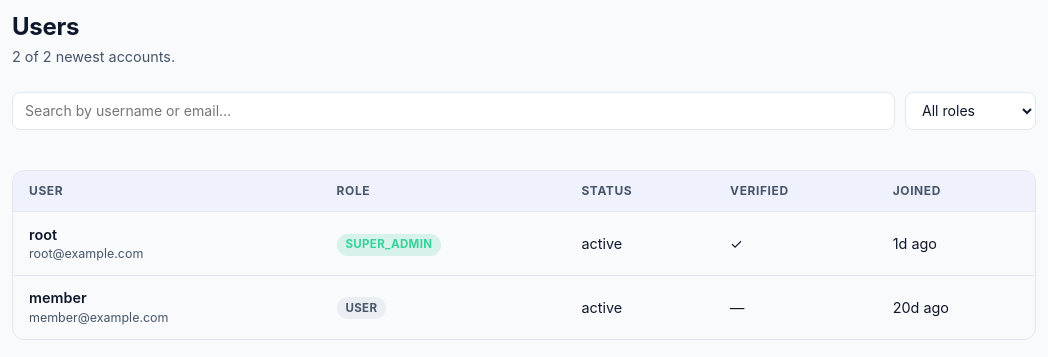
Test: AdminUsersPage › filters the directory by role
Select "user" in the dropdown named "Filter by role" at [970, 111], box [905, 92, 1036, 130]
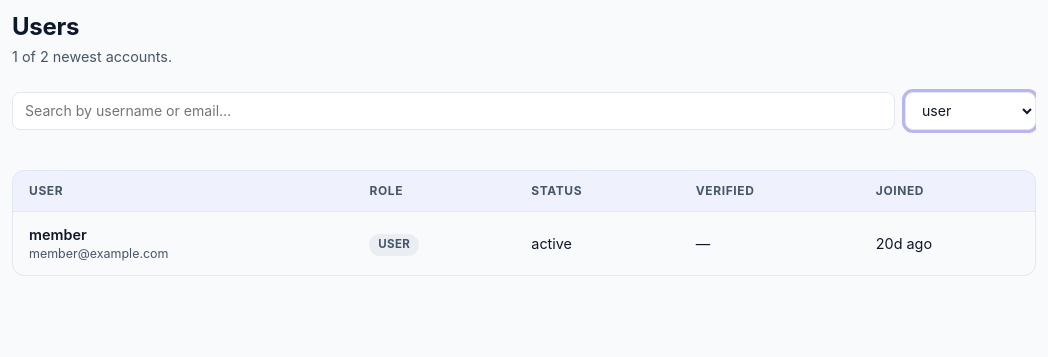
Expected: the text "member@example.com" is shown, [29, 246, 168, 261]
Expected: the text "root@example.com" is gone
